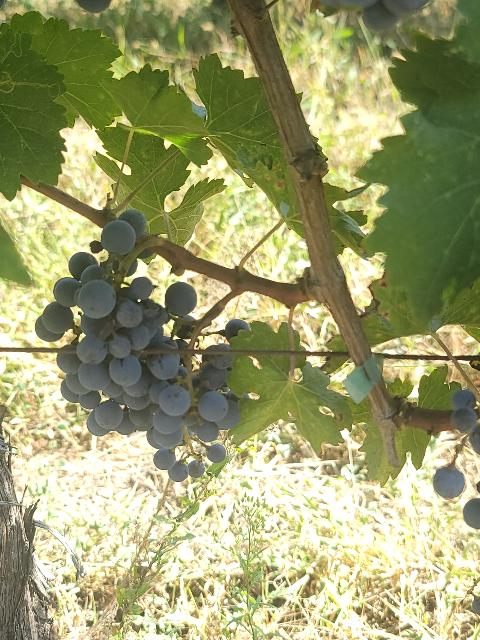grapes: (40, 251, 179, 430), (140, 338, 241, 481)
